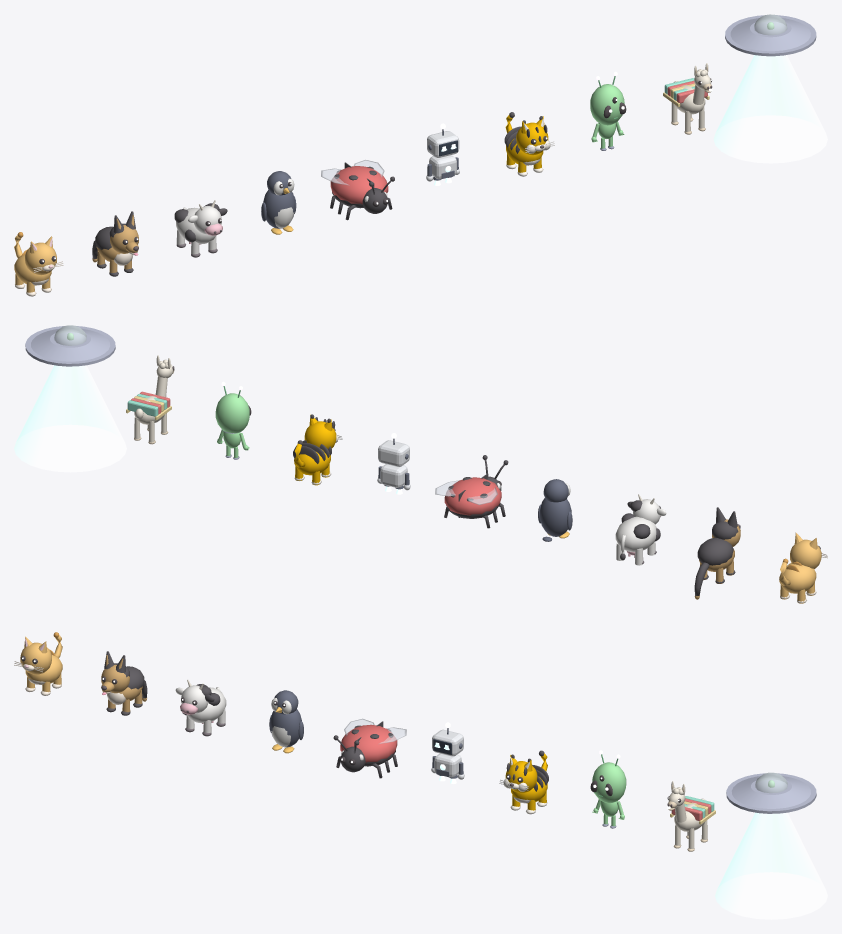
File: zoo-200635e2.glb
3 renders of one model, top to bottom at view 1: azimuth 30°, elevation 25°; view 2: azimuth 150°, elevation 25°; view 3: azimuth 330°, elevation 25°, orthographic.
Parts seen in each view (by area): view 1: Ufo_Beam, Ufo_Hull_Saucer, Ladybug_WingL_Ladybug, Alien_Head_Alien, Cat_Head_CatFur, Penguin_Body_Penguin, Tiger_Head_TigerFur, Ufo_Hull_Dome, Dog_Head_Tan; view 2: Ufo_Beam, Ufo_Hull_Saucer, Ladybug_WingL_Ladybug, Alien_Head_Alien, Penguin_Body_Penguin, Cow_Body_White, Dog_Body_DogBlack, Cat_Body_CatFur, Aki_Head_Bot, Cat_Head_CatFur, Tiger_Head_TigerFur, Ufo_Hull_Dome (+1 smaller); view 3: Ufo_Beam, Ufo_Hull_Saucer, Ladybug_WingR_Ladybug, Alien_Head_Alien, Cat_Head_CatFur, Penguin_Body_Penguin, Tiger_Head_TigerFur, Cow_Body_White, Dog_Head_Tan, Ufo_Hull_Dome.
Part boxes in pixels (left/top/right/bottom): Ufo_Beam: left=713, top=55, right=827, bottom=163; Ufo_Hull_Saucer: left=725, top=15, right=816, bottom=56; Ladybug_WingL_Ladybug: left=330, top=167, right=371, bottom=204; Alien_Head_Alien: left=590, top=84, right=624, bottom=125; Cat_Head_CatFur: left=25, top=242, right=56, bottom=275; Penguin_Body_Penguin: left=263, top=190, right=295, bottom=228; Tiger_Head_TigerFur: left=516, top=122, right=548, bottom=155; Ufo_Hull_Dome: left=754, top=14, right=787, bottom=35; Dog_Head_Tan: left=110, top=225, right=138, bottom=253; Ufo_Beam: left=14, top=365, right=126, bottom=472; Ufo_Hull_Saucer: left=25, top=326, right=115, bottom=366; Ladybug_WingL_Ladybug: left=457, top=478, right=501, bottom=515; Alien_Head_Alien: left=215, top=393, right=249, bottom=433; Penguin_Body_Penguin: left=540, top=498, right=571, bottom=536; Cow_Body_White: left=615, top=516, right=656, bottom=552; Dog_Body_DogBlack: left=697, top=538, right=733, bottom=565; Cat_Body_CatFur: left=779, top=563, right=816, bottom=593; Aki_Head_Bot: left=378, top=440, right=409, bottom=466; Cat_Head_CatFur: left=790, top=539, right=821, bottom=568; Tiger_Head_TigerFur: left=304, top=421, right=336, bottom=448; Ufo_Hull_Dome: left=54, top=325, right=86, bottom=345; Ufo_Beam: left=715, top=813, right=827, bottom=919; Ufo_Hull_Saucer: left=726, top=773, right=816, bottom=813; Ladybug_WingR_Ladybug: left=356, top=726, right=397, bottom=762; Alien_Head_Alien: left=592, top=762, right=626, bottom=803; Cat_Head_CatFur: left=20, top=642, right=51, bottom=674; Penguin_Body_Penguin: left=270, top=709, right=301, bottom=747; Tiger_Head_TigerFur: left=505, top=761, right=537, bottom=793; Cow_Body_White: left=187, top=687, right=226, bottom=723; Dog_Head_Tan: left=101, top=664, right=129, bottom=693; Ufo_Hull_Dome: left=755, top=772, right=787, bottom=793.
Size of the model in its own units: 18.6 by 2.73 by 2.3.
